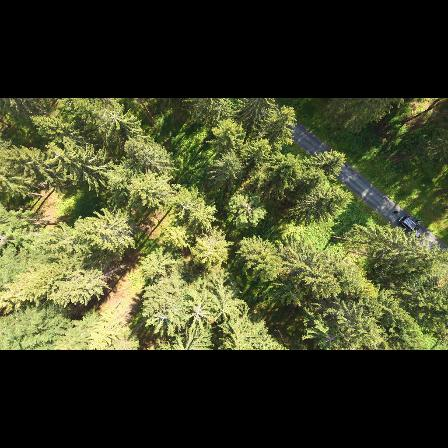Sick: (150, 303, 177, 332), (184, 301, 212, 327)
